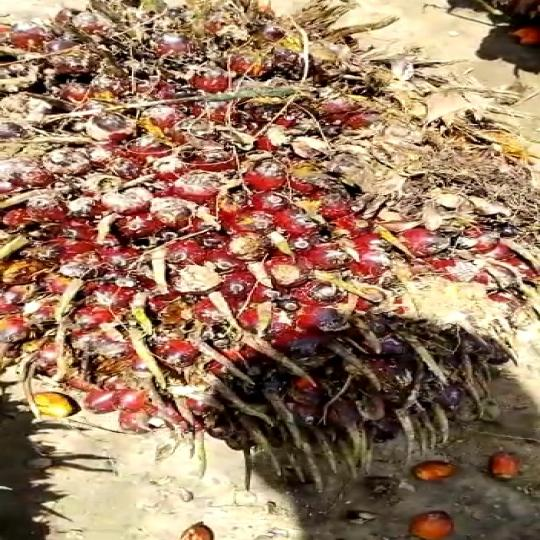masak: (0, 0, 540, 455)
